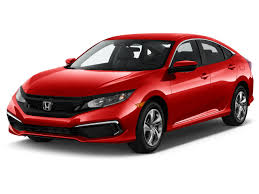Honda: (9, 31, 253, 152)
